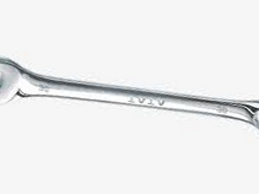wrench: (4, 53, 259, 150)
